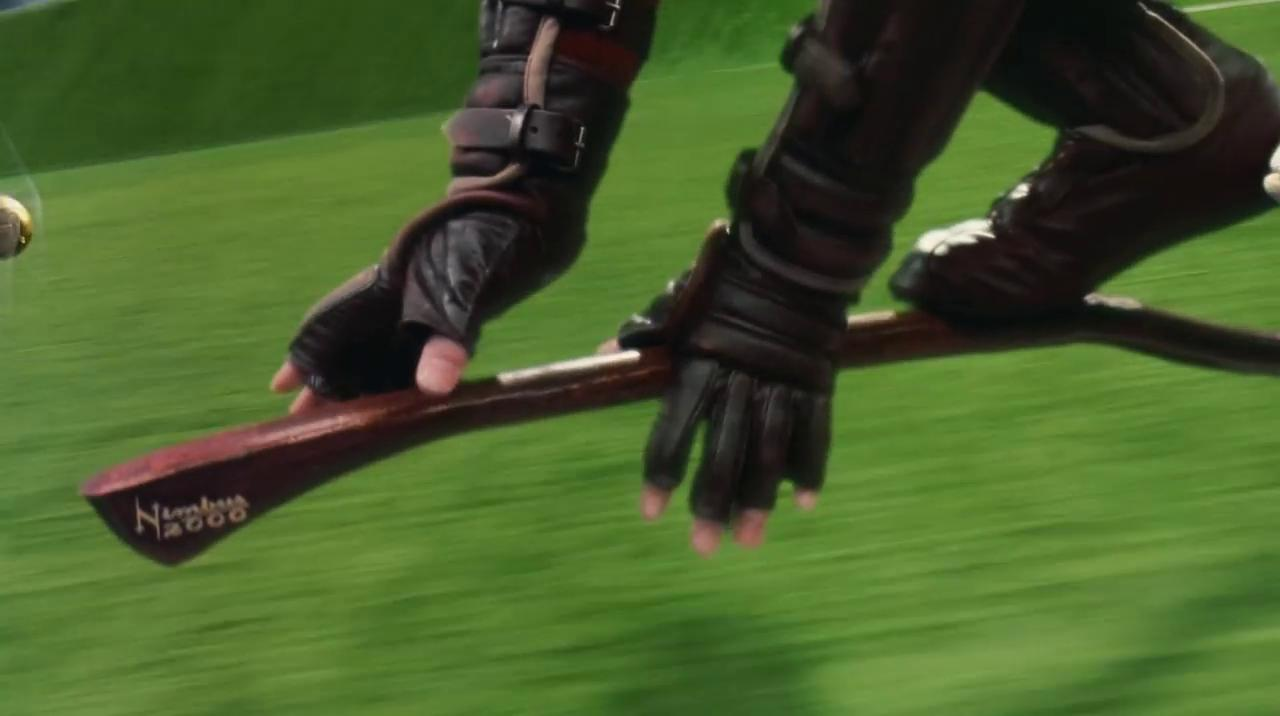snitch: (1, 194, 33, 262)
